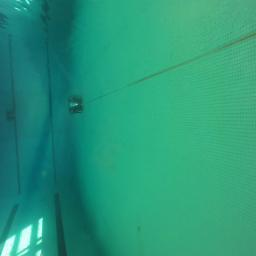Full: (68, 95, 83, 114), (7, 111, 15, 118)
